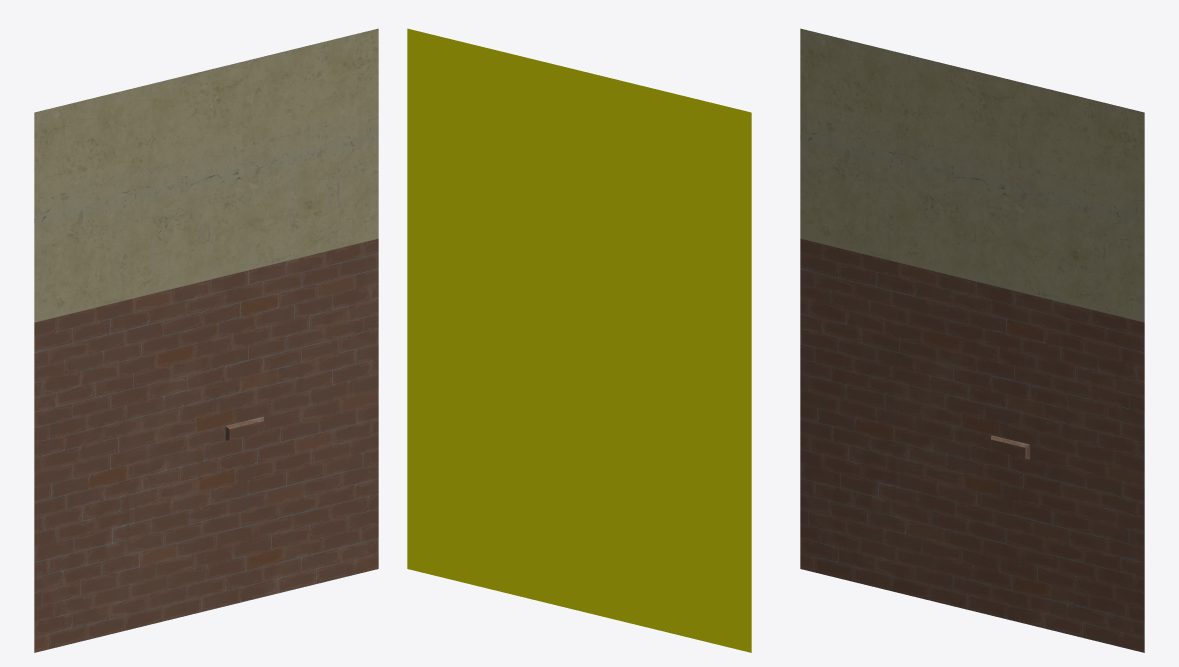
File: brick-halftrim.glb
3 views of the same model, side by side, from view 1: azimuth 30°, elevation 25°; view 2: azimuth 150°, elevation 25°; view 3: azimuth 330°, elevation 25° (orthographic).
Visible parts, largest first — view 1: Brick_HalfTrim; view 2: Brick_HalfTrim; view 3: Brick_HalfTrim.
Part boxes in pixels (left/top/right/bottom): Brick_HalfTrim: left=34, top=28, right=378, bottom=652; Brick_HalfTrim: left=407, top=28, right=751, bottom=652; Brick_HalfTrim: left=800, top=28, right=1144, bottom=652.
Bounding box in the file's own units: 2 × 3 × 0.2247.
3 materials, 2 textured.
